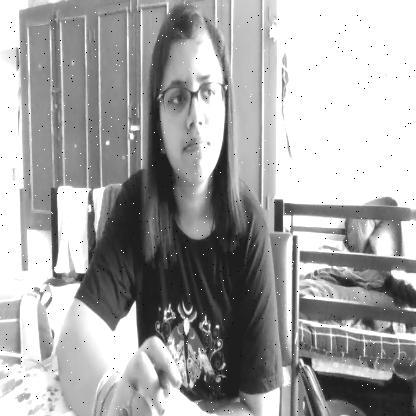Normal: (152, 6, 226, 187)
